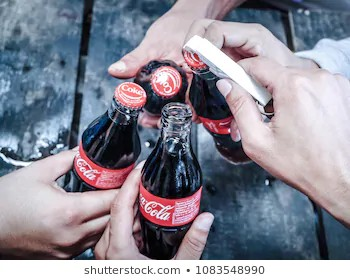coke-glass-bottle: (64, 66, 148, 192), (135, 107, 198, 253), (180, 46, 256, 166), (135, 59, 184, 107)
